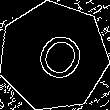O_SW: (22, 23, 85, 89)
